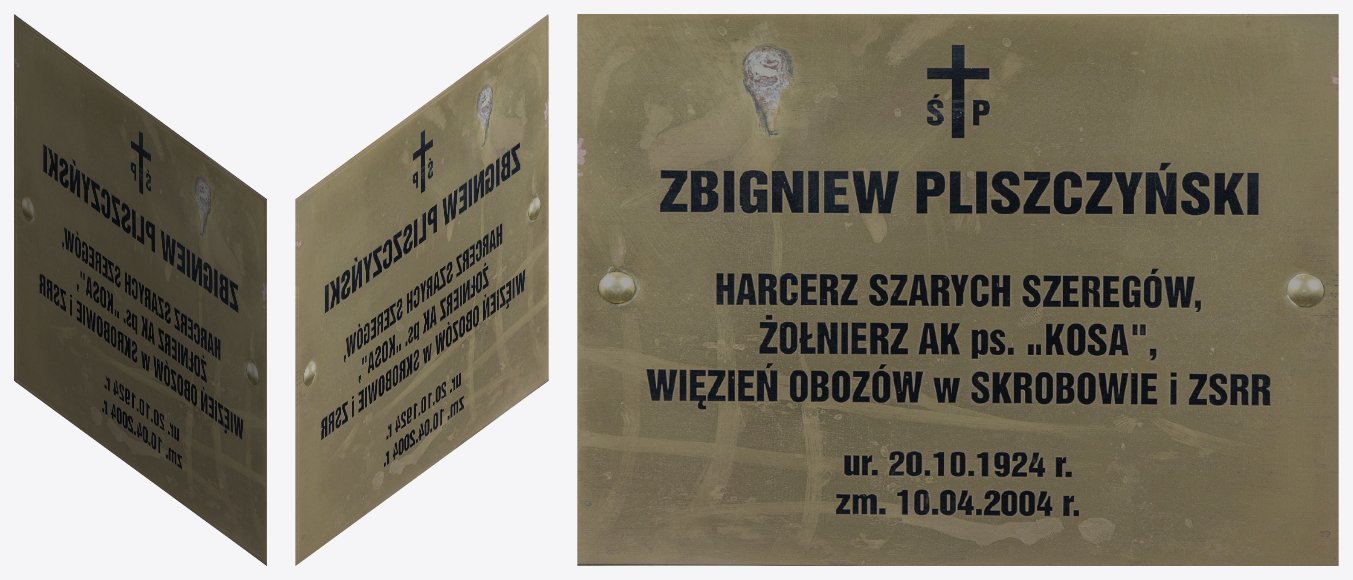
The model's file is 38.  ŚP.  ZBIGNIEW PLISZCZYŃSKI.glb.
The picture shows the model from 3 angles, left to right: view 1: azimuth 30°, elevation 25°; view 2: azimuth 150°, elevation 25°; view 3: azimuth 270°, elevation 25°; orthographic projection. The views are drawn at different scales.
Visible parts, largest first — view 1: Plane; view 2: Plane; view 3: Plane.
Boxes of the visible parts, x1,y1,x2,y2 form: Plane: [14, 14, 266, 565]; Plane: [295, 14, 548, 565]; Plane: [577, 14, 1338, 565].
Bounding box in the file's own units: 0.0102 × 14.8 × 18.5.
1 material, 1 textured.
